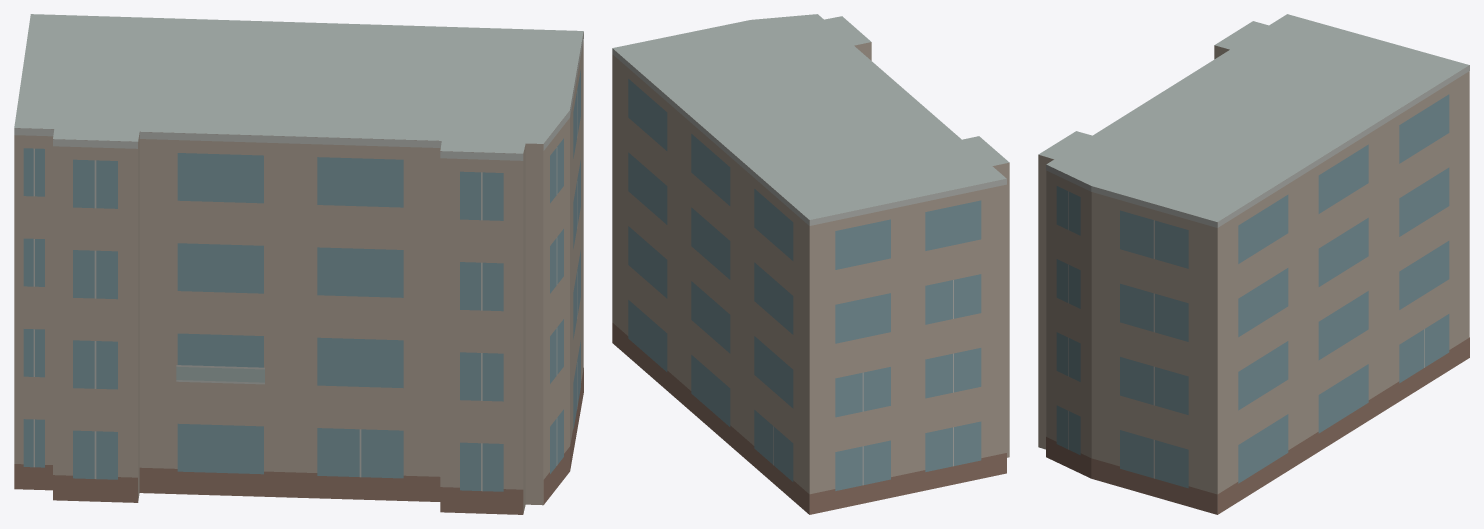
Rendered from survey-upis-32811297.glb.
3 views of the same model, side by side, from view 1: azimuth 30°, elevation 25°; view 2: azimuth 150°, elevation 25°; view 3: azimuth 270°, elevation 25° (orthographic). The views are drawn at different scales.
Visible parts, largest first — view 1: survey-upis-32811297.tmp; view 2: survey-upis-32811297.tmp; view 3: survey-upis-32811297.tmp.
Part boxes in pixels (left/top/right/bottom): survey-upis-32811297.tmp: left=14, top=14, right=583, bottom=514; survey-upis-32811297.tmp: left=612, top=14, right=1009, bottom=514; survey-upis-32811297.tmp: left=1038, top=14, right=1469, bottom=514.
Size of the model in its own units: 18.62 by 12.2 by 16.31.
